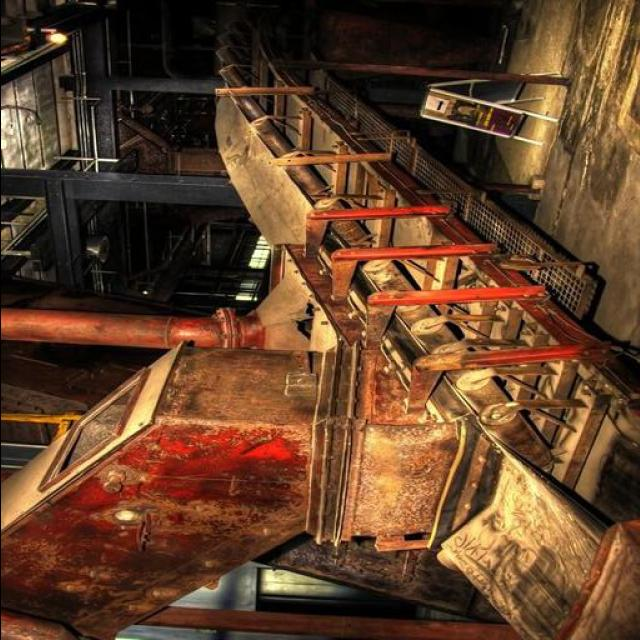conveyor: (214, 70, 500, 533)
